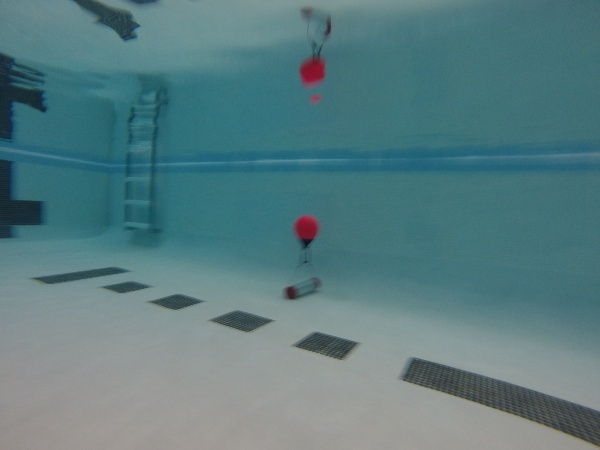buoy_red: (293, 214, 320, 250)
